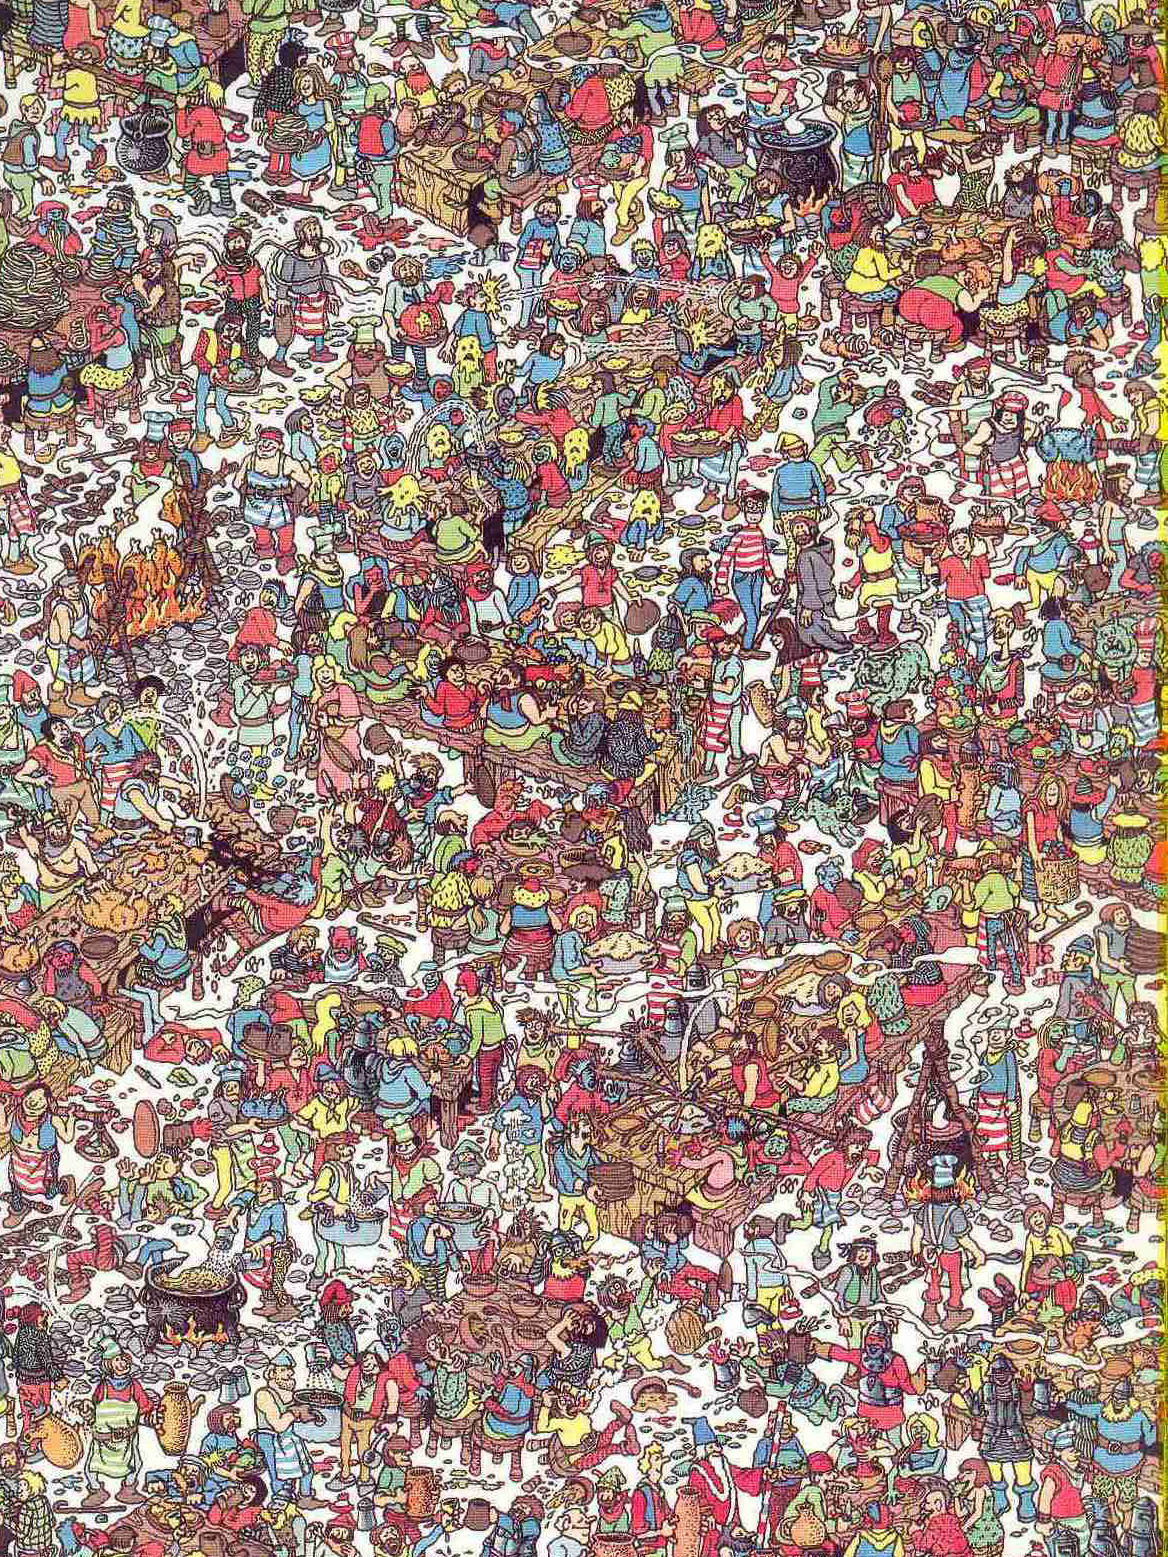waldo: (739, 479, 769, 525)
